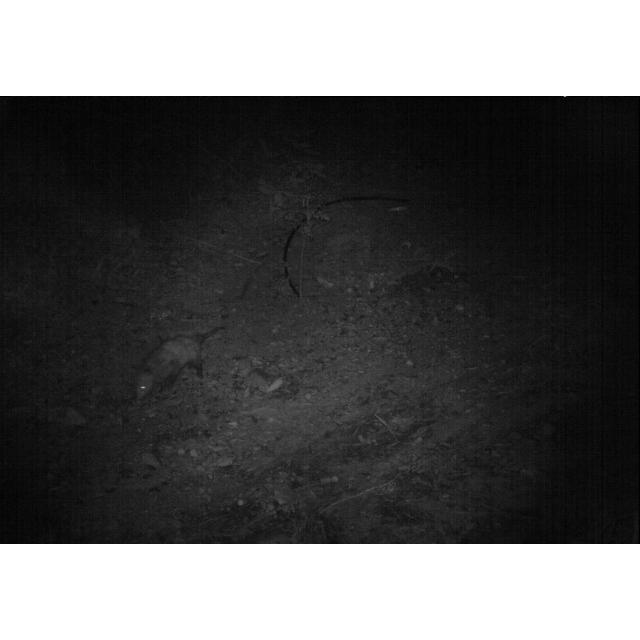animals: (134, 322, 230, 402)
